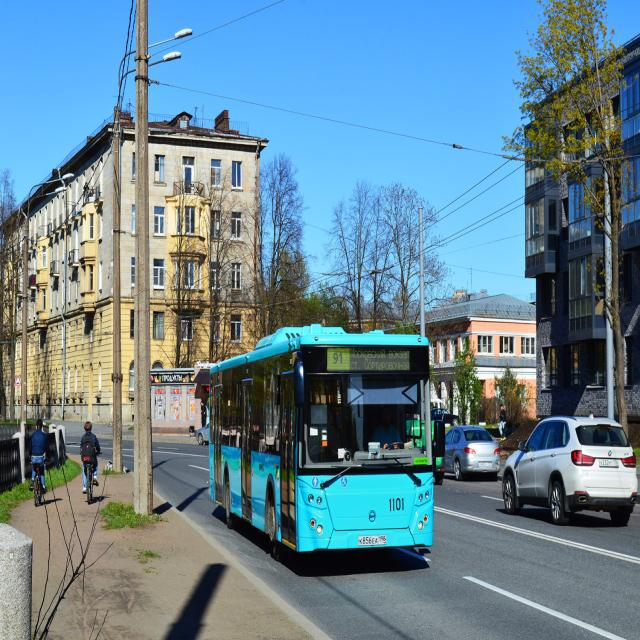number-of-bus: (330, 351, 348, 369)
